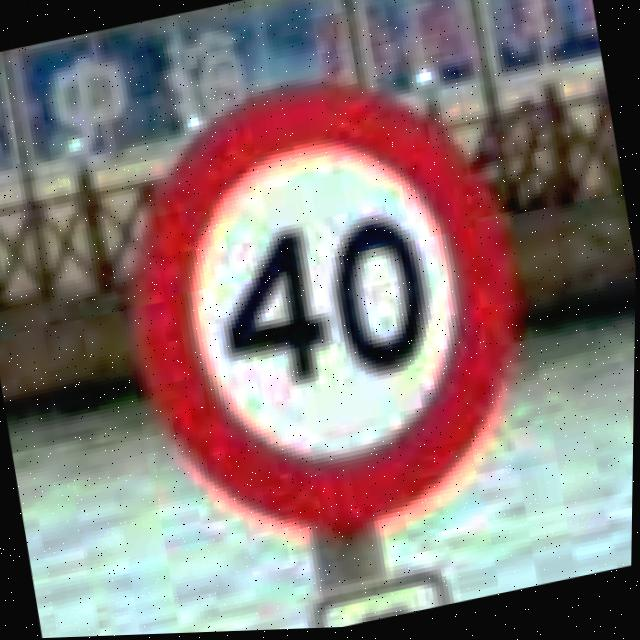max40: (83, 36, 565, 582)
